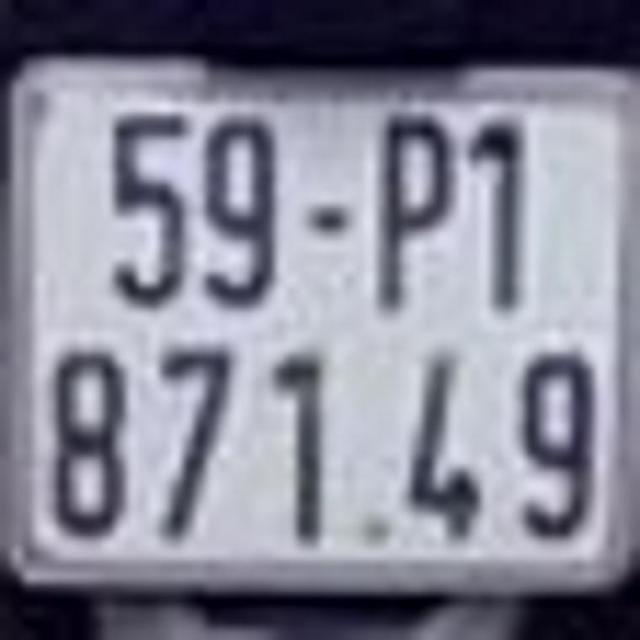1: (273, 352, 330, 547), (475, 120, 528, 306)
4: (400, 346, 489, 549)
5: (103, 108, 184, 300)
7: (158, 346, 246, 546)
8: (56, 348, 126, 542)
9: (519, 354, 596, 533), (202, 117, 273, 300)
P: (369, 112, 456, 315)
